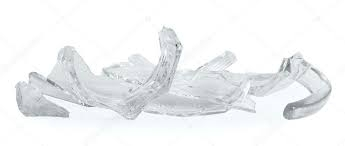glass: (54, 24, 183, 129), (109, 44, 265, 123), (280, 47, 332, 125), (10, 75, 67, 121)
